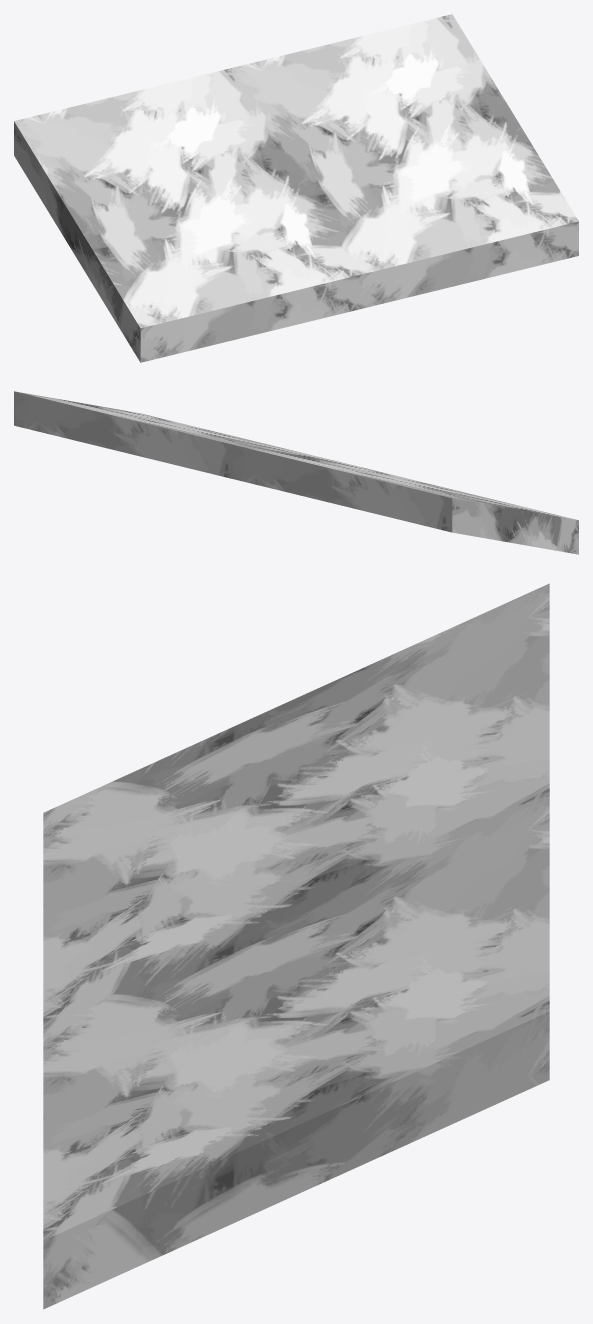
The model's file is Village_Clay_1m_Roof_B.fbx.
The picture shows the model from 3 angles, top to bottom: view 1: azimuth 30°, elevation 25°; view 2: azimuth 150°, elevation 25°; view 3: azimuth 270°, elevation 25°; orthographic projection. The views are drawn at different scales.
Parts seen in each view (by area): view 1: Village_Wall_2m_Roof_A.184; view 2: Village_Wall_2m_Roof_A.184; view 3: Village_Wall_2m_Roof_A.184.
Boxes of the visible parts, x1,y1,x2,y2 form: Village_Wall_2m_Roof_A.184: (14,14,578,362); Village_Wall_2m_Roof_A.184: (14,391,578,554); Village_Wall_2m_Roof_A.184: (43,583,549,1309).
Bounding box in the file's own units: 200 × 65 × 100.
